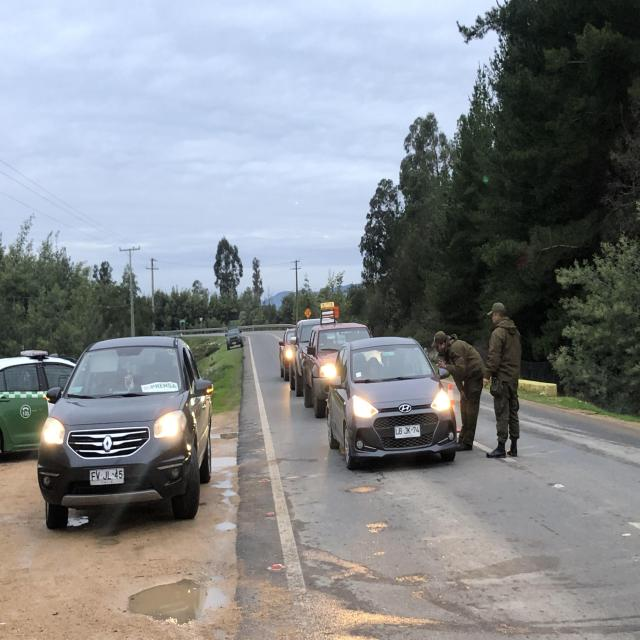patente: (88, 466, 125, 486), (394, 424, 422, 439)
